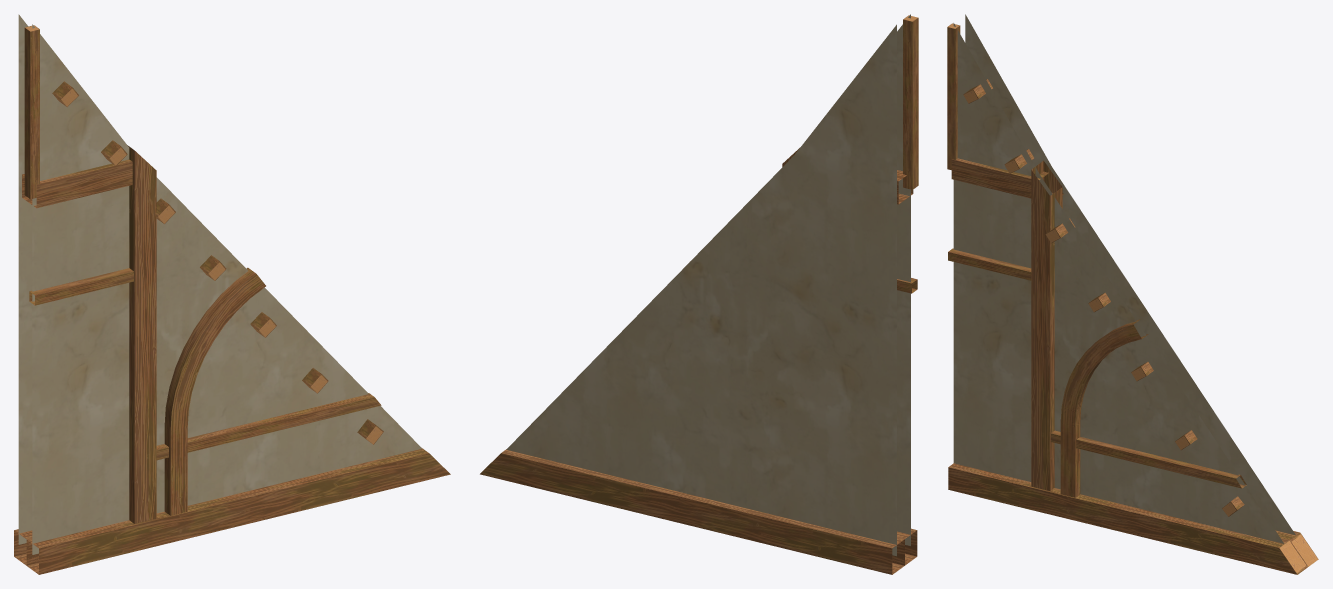
The model's file is Roof_Front_Brick8_Half_R.glb.
3 renders of one model, left to right at view 1: azimuth 30°, elevation 25°; view 2: azimuth 150°, elevation 25°; view 3: azimuth 330°, elevation 25°, orthographic. The views are drawn at different scales.
Visible parts, largest first — view 1: Roof_Front_Brick8_Half_R; view 2: Roof_Front_Brick8_Half_R; view 3: Roof_Front_Brick8_Half_R.
Boxes of the visible parts, x1,y1,x2,y2 form: Roof_Front_Brick8_Half_R: (14,14,450,574); Roof_Front_Brick8_Half_R: (480,14,918,574); Roof_Front_Brick8_Half_R: (947,14,1318,574).
Size of the model in its own units: 4.35 by 5.45 by 0.4893.
Materials: 2 (2 with a texture image).
